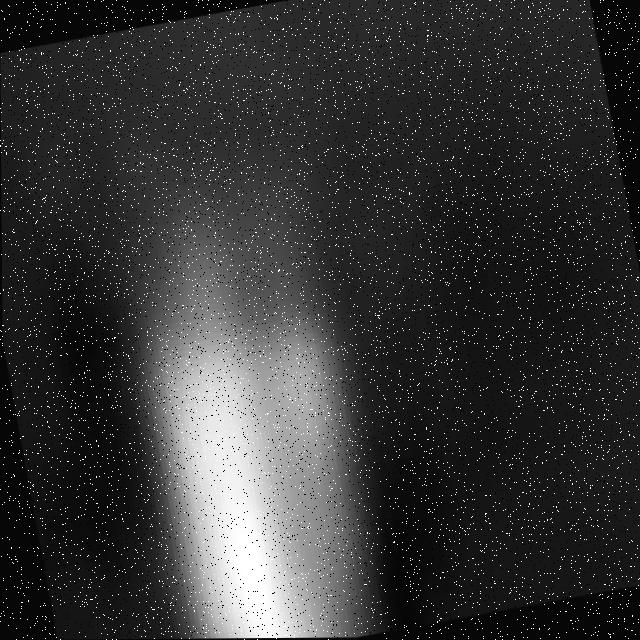person: (92, 148, 410, 640)
